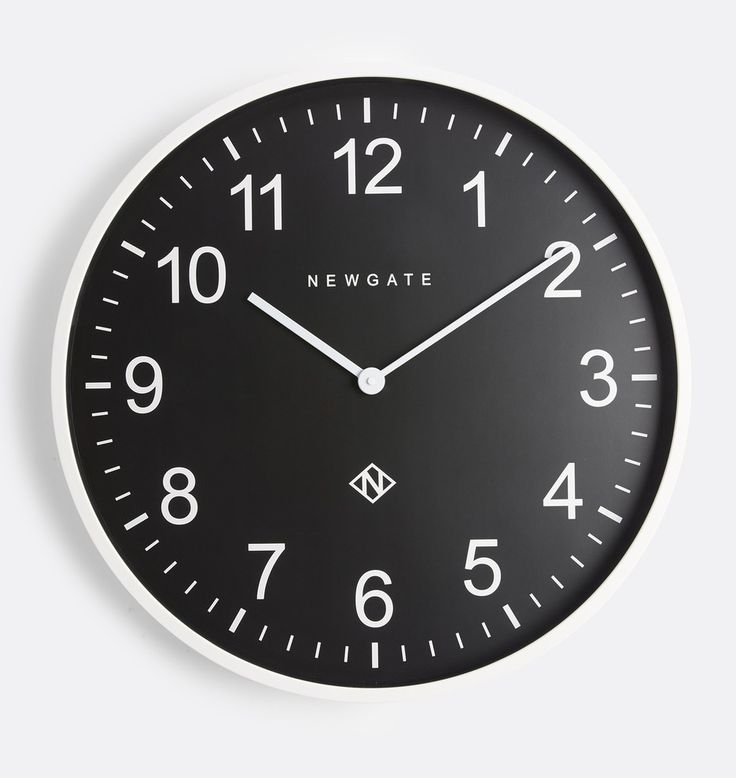clock: (24, 11, 724, 778)
